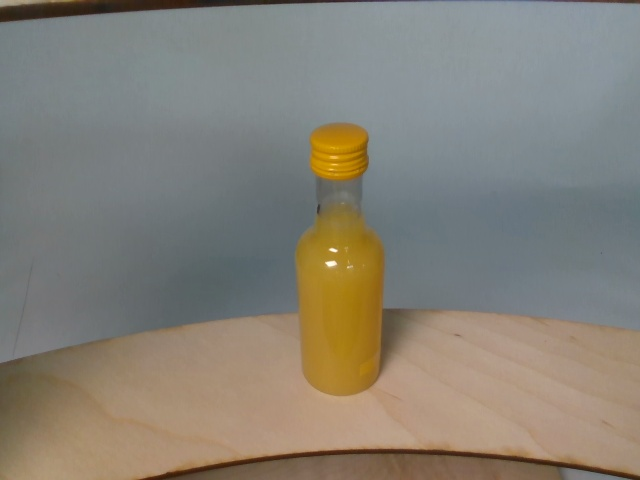orange_juice: (294, 123, 385, 395)
